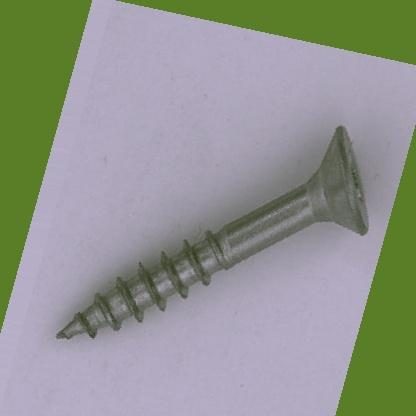metal: (55, 124, 369, 342)
